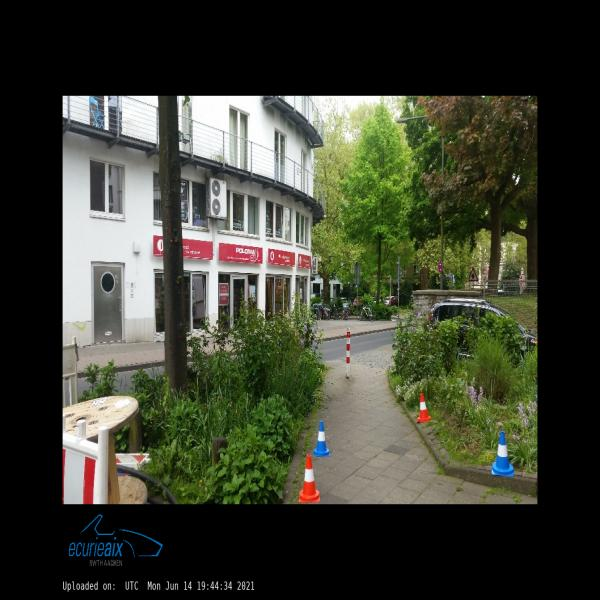blue_cone: (492, 431, 514, 476), (313, 421, 330, 456)
orange_cone: (299, 455, 320, 502), (417, 394, 431, 422)
